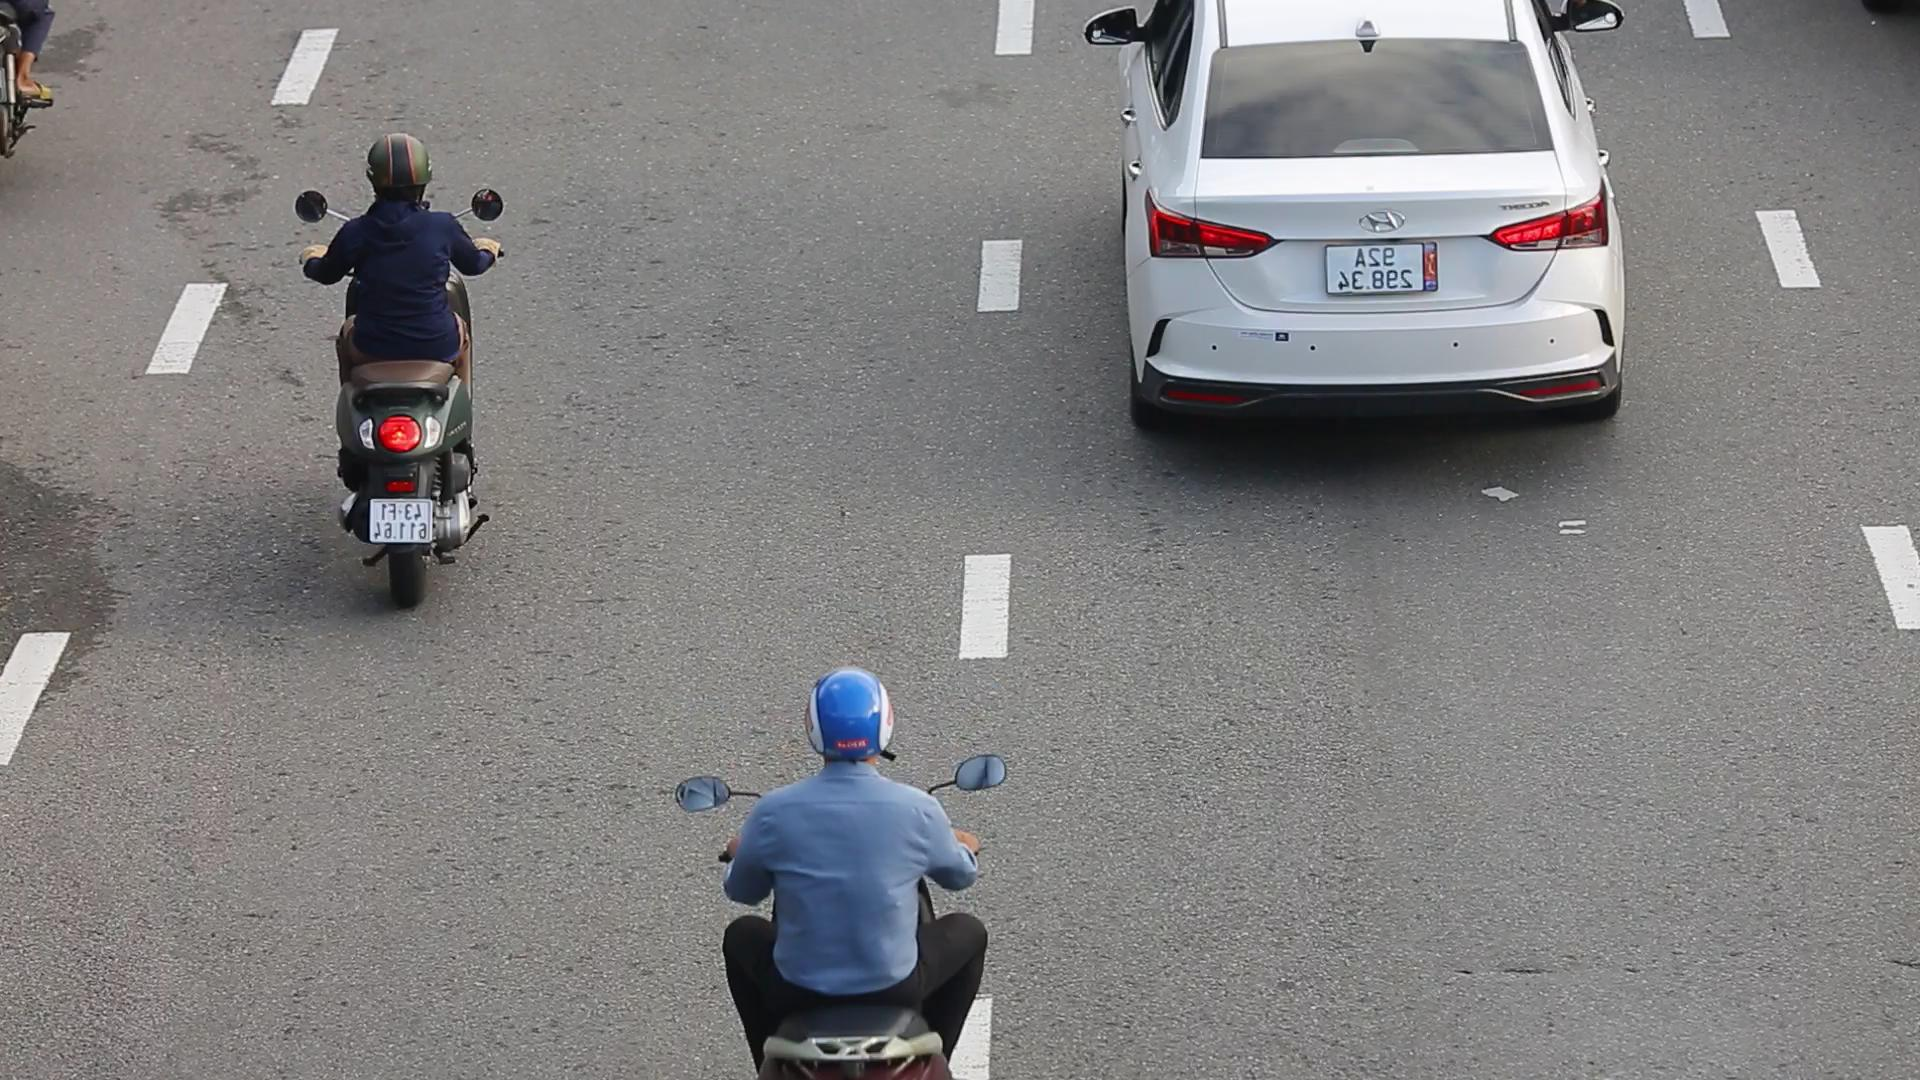motobike: (291, 127, 508, 604)
